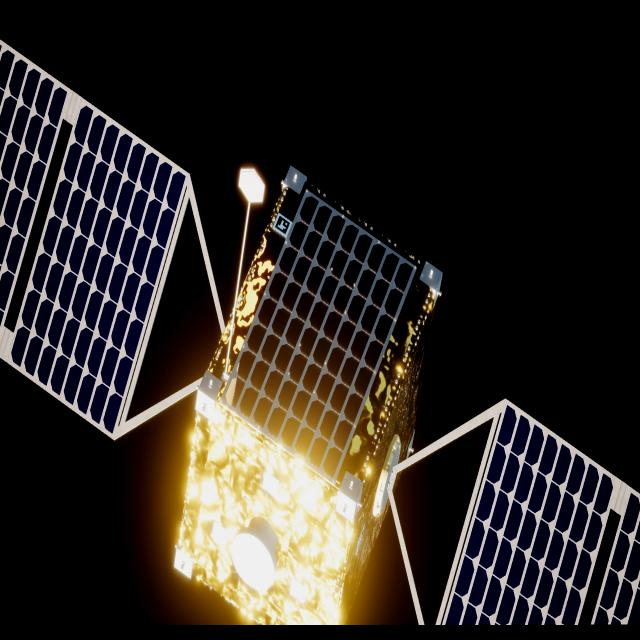medium_debris: (0, 42, 640, 626)
